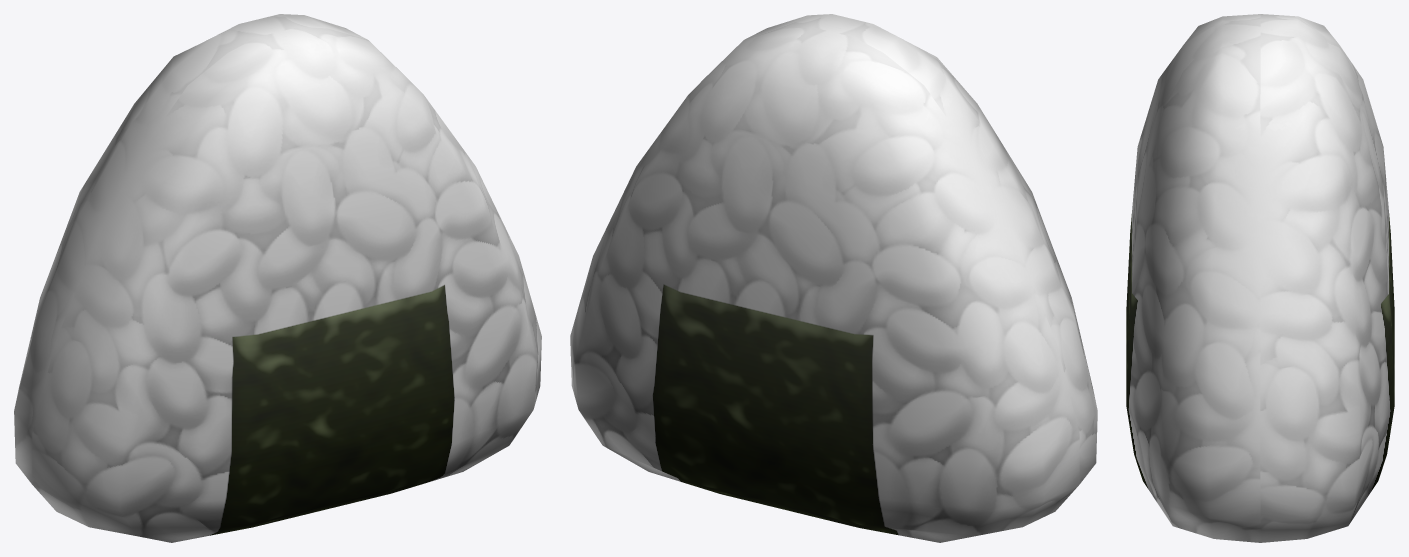
The model's file is 011-Onigiri4.FBX.
3 renders of one model, left to right at view 1: azimuth 30°, elevation 25°; view 2: azimuth 150°, elevation 25°; view 3: azimuth 270°, elevation 25°, orthographic. The views are drawn at different scales.
Parts seen in each view (by area): view 1: 011-Onigiri4; view 2: 011-Onigiri4; view 3: 011-Onigiri4.
Part boxes in pixels (x1,y1,x2,y2): 011-Onigiri4: [14, 14, 541, 542]; 011-Onigiri4: [570, 14, 1097, 542]; 011-Onigiri4: [1126, 14, 1394, 542].
Bounding box in the file's own units: 15.79 × 13.84 × 7.76.
